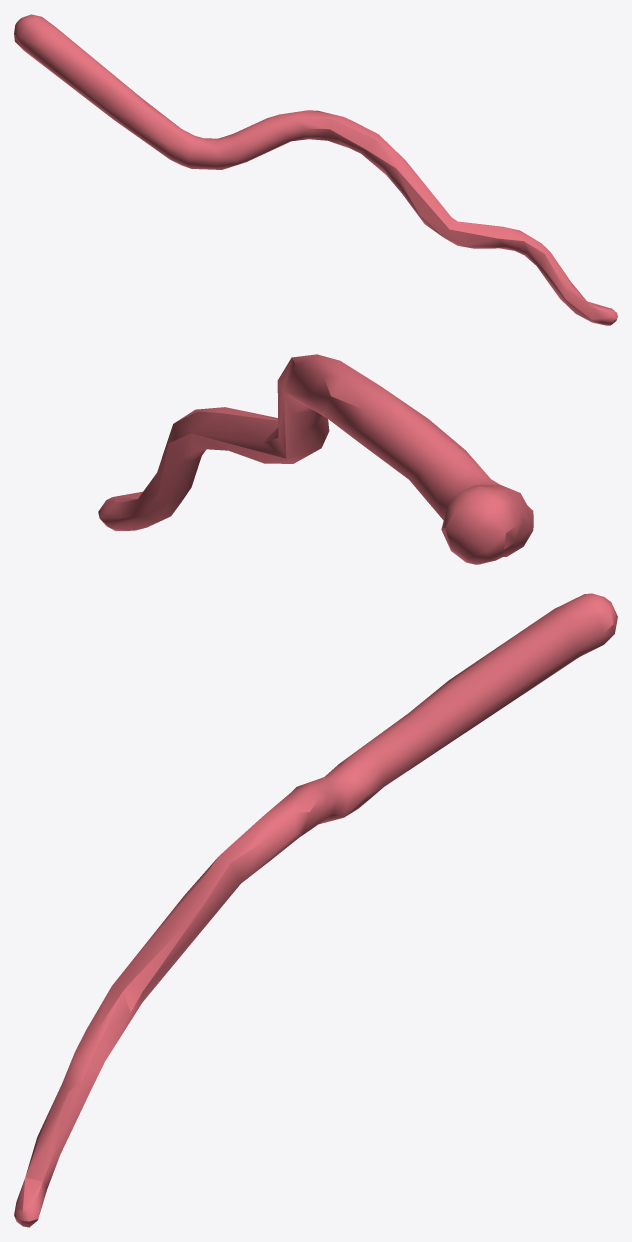
Rendered from fma3807_fj2670.glb.
3 views of the same model, one above another, from view 1: azimuth 30°, elevation 25°; view 2: azimuth 150°, elevation 25°; view 3: azimuth 270°, elevation 25° (orthographic). The views are drawn at different scales.
Parts seen in each view (by area): view 1: FMA3807_FJ2670; view 2: FMA3807_FJ2670; view 3: FMA3807_FJ2670.
Part boxes in pixels (<box>): FMA3807_FJ2670: <box>14,14,617,325</box>; FMA3807_FJ2670: <box>98,354,533,564</box>; FMA3807_FJ2670: <box>14,593,617,1227</box>.
Bounding box in the file's own units: 0.0199 × 0.0121 × 0.018.
